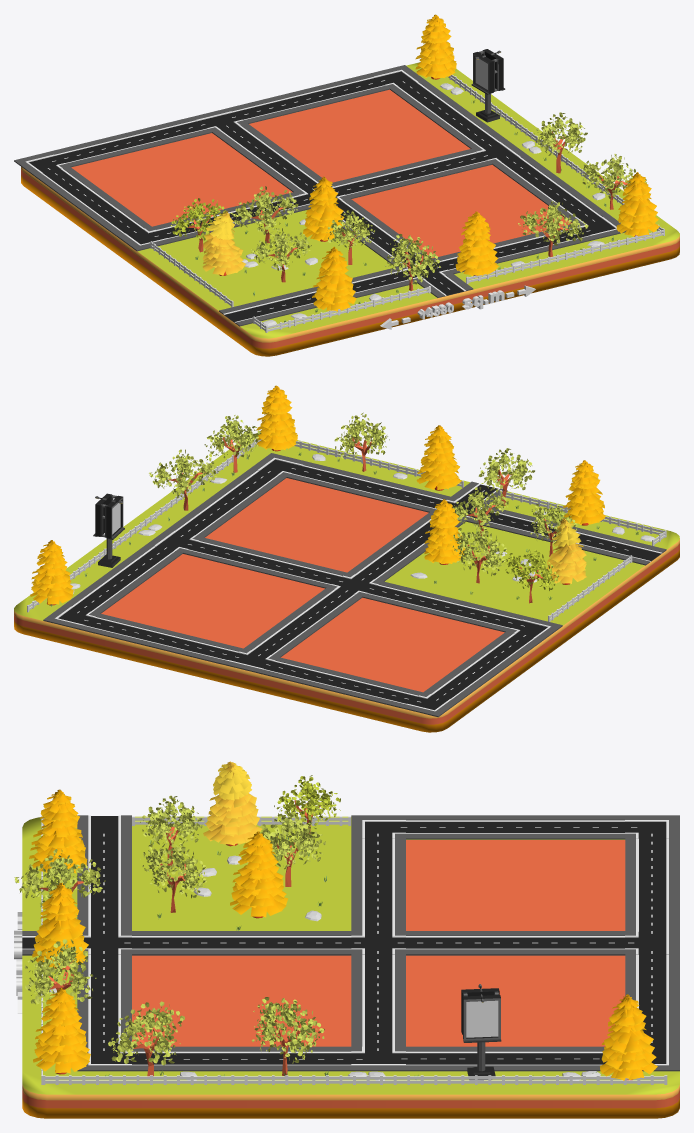
Rendered from VillaSB.glb.
The picture shows the model from 3 angles, top to bottom: view 1: azimuth 30°, elevation 25°; view 2: azimuth 150°, elevation 25°; view 3: azimuth 270°, elevation 25°; orthographic projection. The views are drawn at different scales.
Parts seen in each view (by area): view 1: 3.003, 1.114, 1.097, 1.099, 1.110, 1.100, 1.112, 1.108, 1.105, Cube.230, 1.104, Pine.024 (+25 smaller); view 2: 3.003, 1.097, 1.114, 1.099, 1.098, 1.104, 1.112, 1.100, 1.105, 1.108, 1.110, 1.111 (+26 smaller); view 3: 3.003, 1.110, 1.111, 1.108, 1.100, Cube.230, 1.097, 1.098, 1.099, 1.105, 1.112, 1.104 (+25 smaller).
Boxes of the visible parts, left/top/right/bottom form: 3.003: left=21, top=62, right=679, bottom=356; 1.114: left=227, top=73, right=389, bottom=123; 1.097: left=50, top=117, right=211, bottom=167; 1.099: left=331, top=148, right=492, bottom=198; 1.110: left=219, top=267, right=417, bottom=326; 1.100: left=34, top=166, right=151, bottom=236; 1.112: left=390, top=80, right=506, bottom=148; 1.108: left=212, top=123, right=321, bottom=192; 1.105: left=492, top=155, right=609, bottom=222; Cube.230: left=448, top=74, right=664, bottom=277; 1.104: left=432, top=225, right=594, bottom=273; Pine.024: left=455, top=211, right=499, bottom=276; 3.003: left=14, top=433, right=679, bottom=732; 1.097: left=258, top=657, right=422, bottom=708; 1.114: left=79, top=613, right=243, bottom=664; 1.099: left=183, top=537, right=346, bottom=588; 1.098: left=362, top=581, right=526, bottom=632; 1.104: left=286, top=461, right=450, bottom=512; 1.112: left=64, top=544, right=182, bottom=613; 1.100: left=424, top=631, right=541, bottom=701; 1.105: left=168, top=468, right=286, bottom=537; 1.108: left=244, top=588, right=362, bottom=657; 1.110: left=466, top=506, right=666, bottom=565; 1.111: left=347, top=512, right=466, bottom=581; 3.003: left=14, top=816, right=679, bottom=1118; 1.110: left=77, top=815, right=131, bottom=931; 1.111: left=132, top=931, right=351, bottom=955; 1.108: left=406, top=931, right=625, bottom=955; 1.100: left=406, top=815, right=625, bottom=839; Cube.230: left=41, top=965, right=667, bottom=1084; 1.097: left=625, top=838, right=679, bottom=931; 1.098: left=351, top=838, right=405, bottom=931; 1.099: left=351, top=954, right=405, bottom=1047; 1.105: left=132, top=1046, right=351, bottom=1071; 1.112: left=406, top=1046, right=607, bottom=1071; 1.104: left=77, top=954, right=131, bottom=1047.
Bounding box in the file's own units: 12.04 × 2.25 × 12.15.
1 material, 1 textured.
